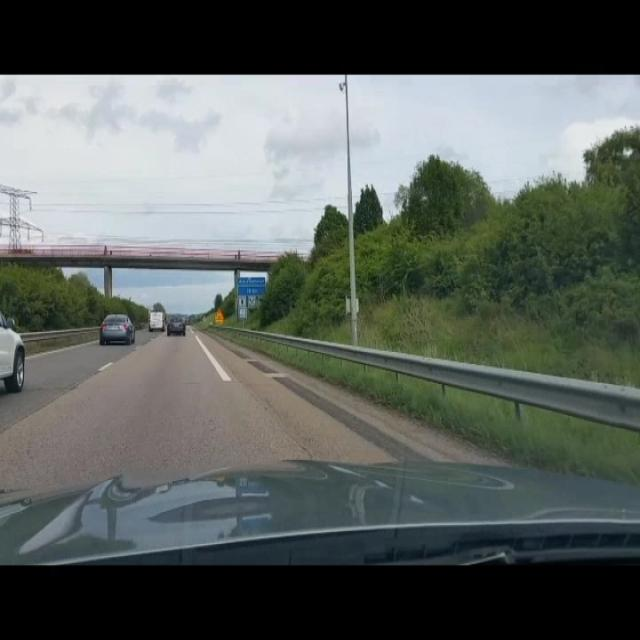indication: (238, 276, 266, 296)
